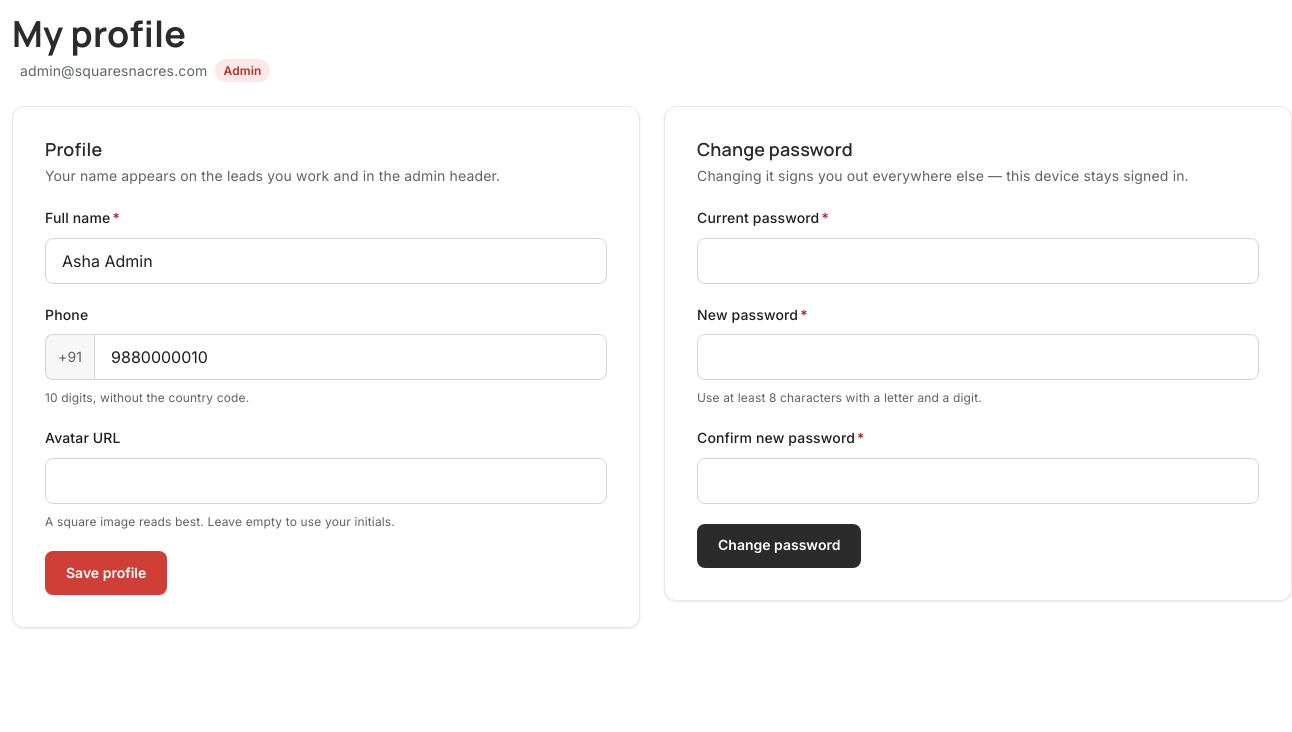
Test case: ProfilePage — the phone number (QA-61) › saves "+91 98450 12345" as its ten digits, and shows them
This screenshot has width=1292, height=732.
Step 1. Replace the text in the field labelled "Phone" with "+91 98450 12345" → coordinates (351, 357), box [94,334,607,380]
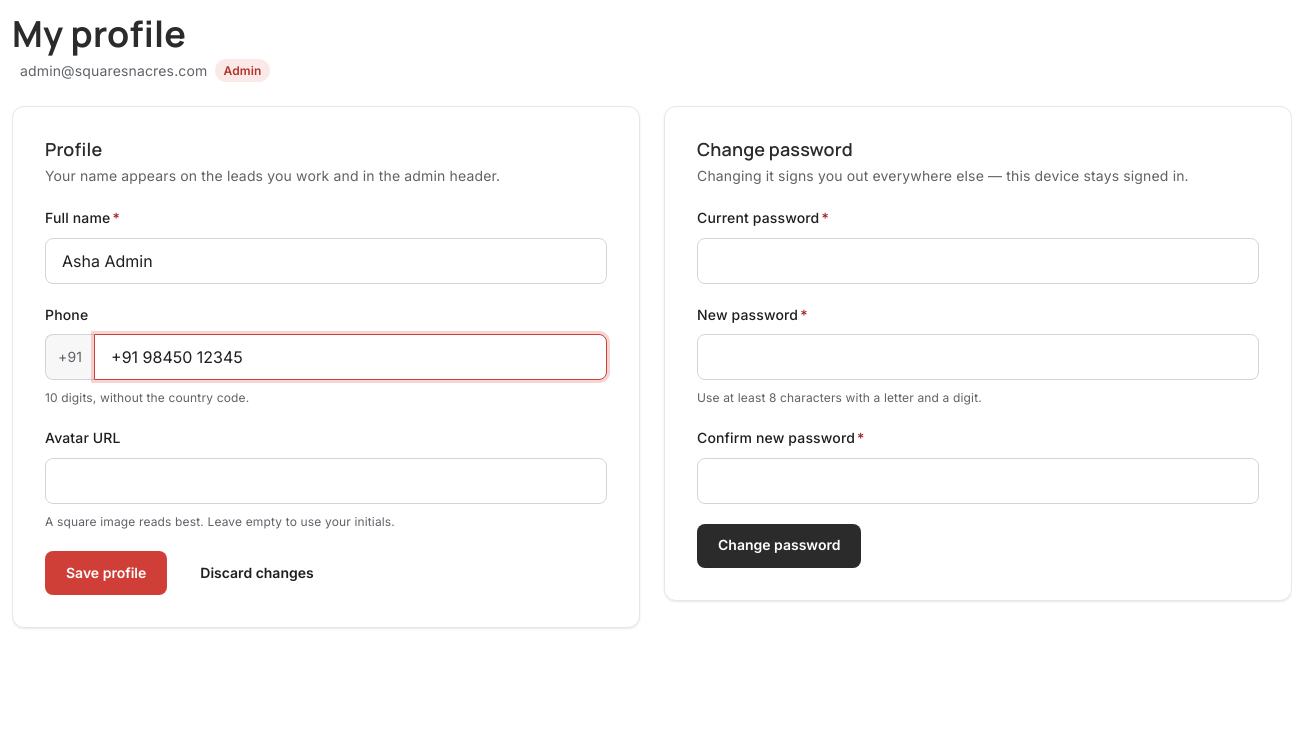
Step 2. Click the button "Save profile" → coordinates (106, 573), box [45,551,167,595]
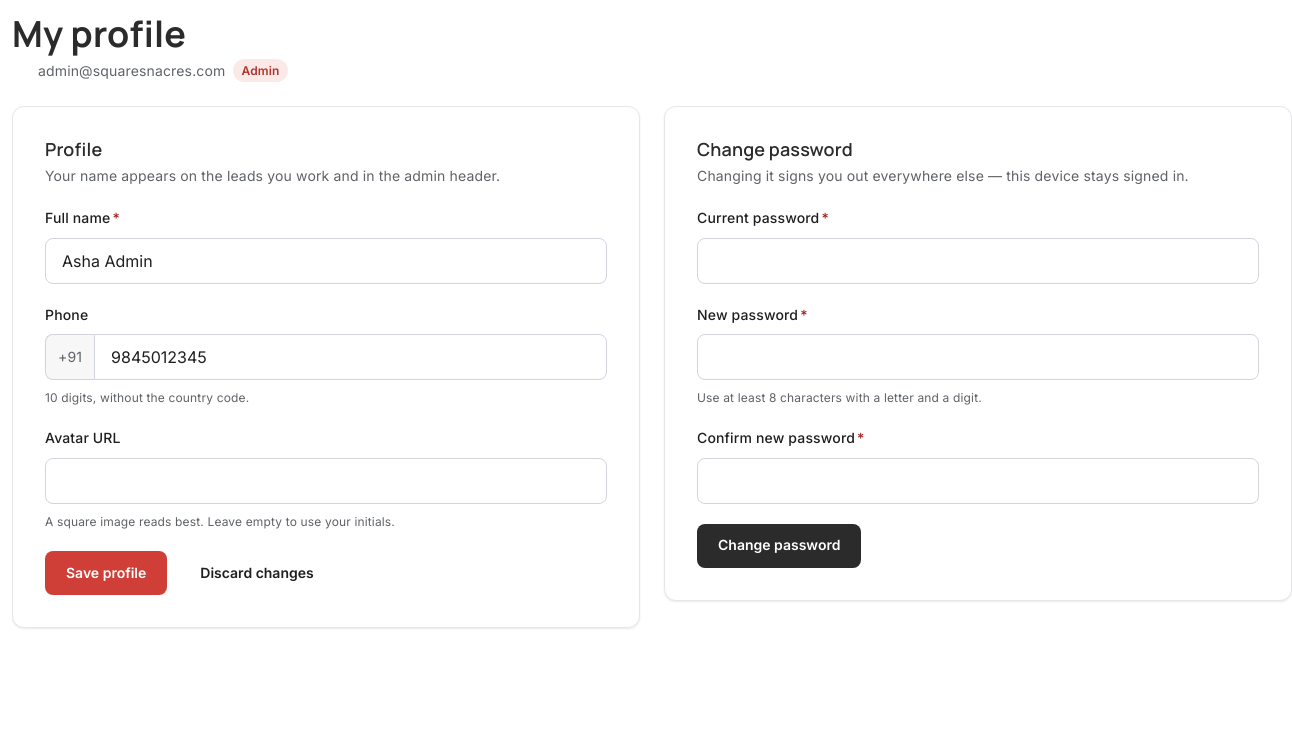
Result: the field labelled "Phone" holds "9845012345" at [94,334,607,380]
